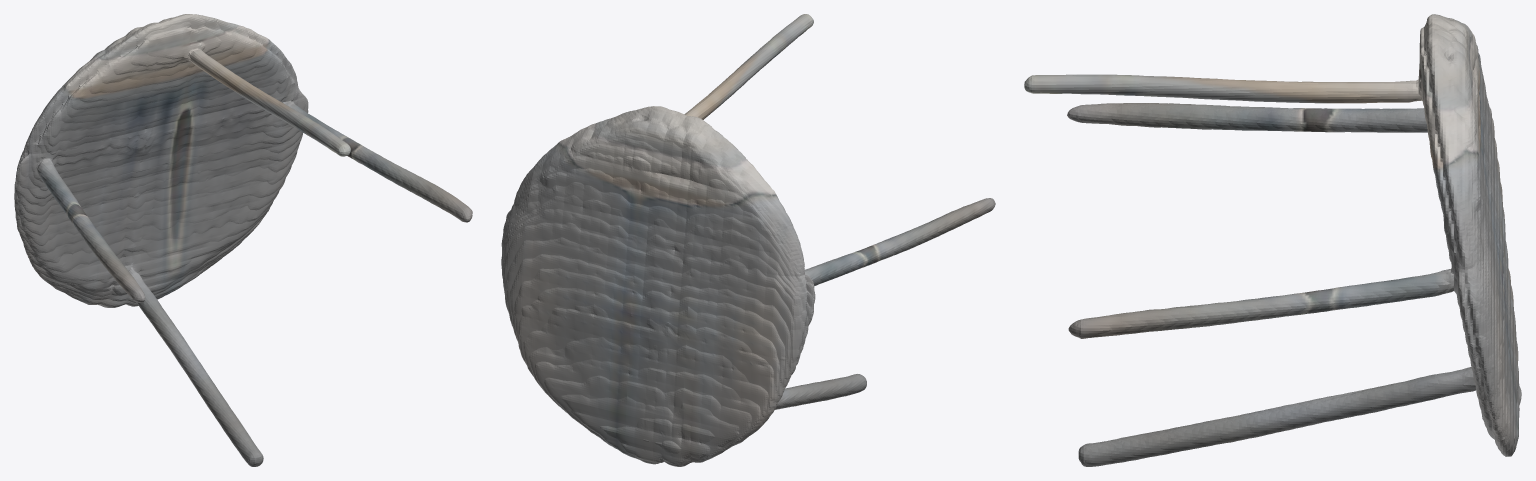
File: abliaud AALST bees.glb
3 renders of one model, left to right at view 1: azimuth 30°, elevation 25°; view 2: azimuth 150°, elevation 25°; view 3: azimuth 270°, elevation 25°, orthographic. The views are drawn at different scales.
Visible parts, largest first — view 1: world; view 2: world; view 3: world.
Boxes of the visible parts, x1,y1,x2,y2 form: world: (14, 14, 472, 466); world: (501, 14, 995, 466); world: (1024, 14, 1521, 466).
Bounding box in the file's own units: 1.07 × 1.03 × 0.9966.
